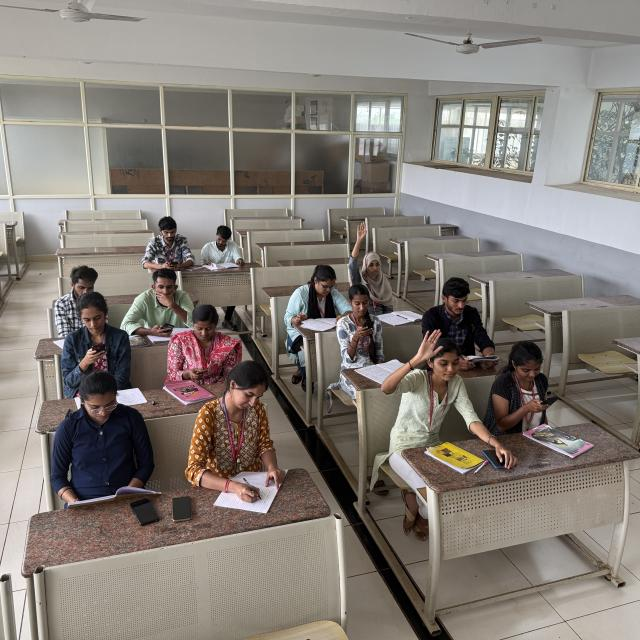Hand Rising: (385, 329, 473, 438), (344, 221, 400, 304)
Reading: (50, 371, 160, 507), (436, 275, 499, 367), (282, 256, 349, 328), (196, 223, 244, 270)
Using Phone: (56, 294, 132, 390), (489, 340, 559, 417), (174, 302, 236, 386), (129, 276, 194, 342), (335, 286, 384, 360), (142, 214, 198, 274)
Writing: (192, 367, 278, 505)
